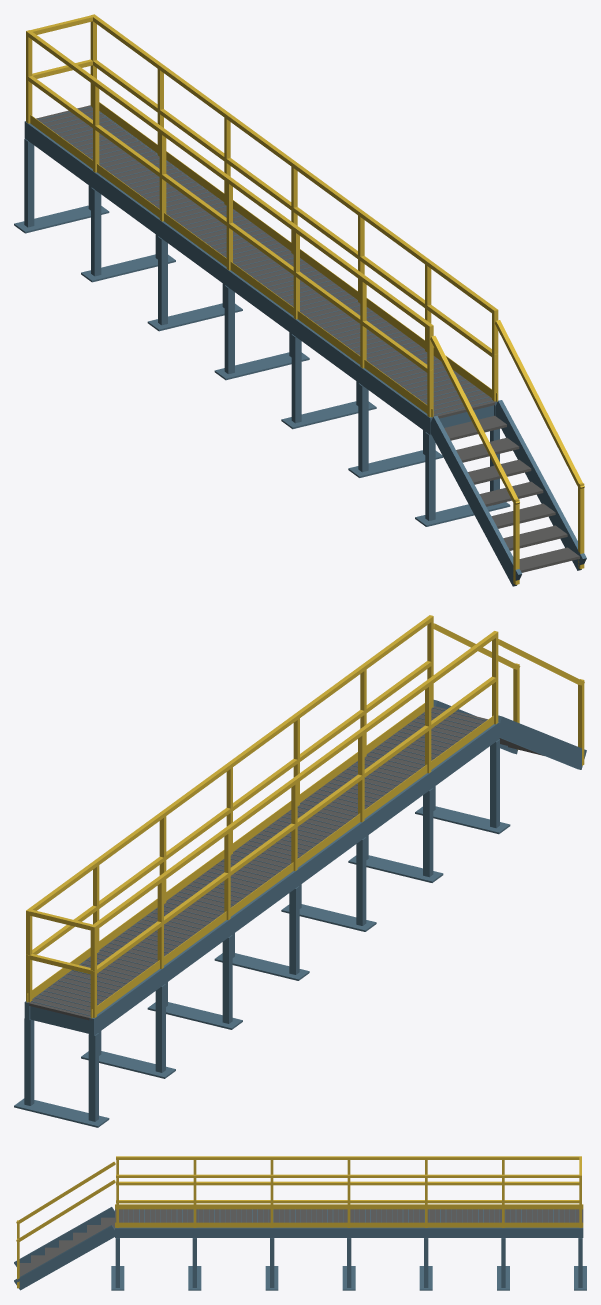
Rendered from log_deck_catwalk.glb.
The picture shows the model from 3 angles, top to bottom: view 1: azimuth 30°, elevation 25°; view 2: azimuth 150°, elevation 25°; view 3: azimuth 270°, elevation 25°; orthographic projection. The views are drawn at different scales.
Parts seen in each view (by area): view 1: LD_CatwalkMesh; view 2: LD_CatwalkMesh; view 3: LD_CatwalkMesh.
Boxes of the visible parts, x1,y1,x2,y2 form: LD_CatwalkMesh: [14, 14, 586, 586]; LD_CatwalkMesh: [14, 615, 586, 1127]; LD_CatwalkMesh: [14, 1156, 586, 1290].
Bounding box in the file's own units: 1.04 × 2.36 × 10.65.
